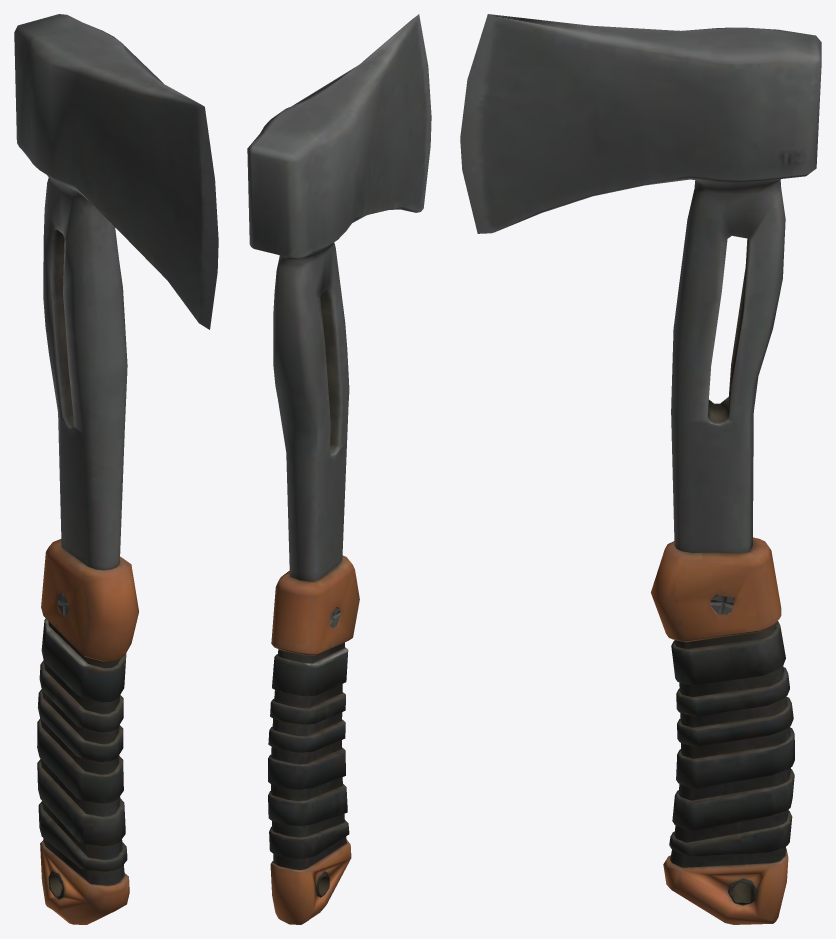
Rendered from hatchet_lod1.glb.
3 renders of one model, left to right at view 1: azimuth 30°, elevation 25°; view 2: azimuth 150°, elevation 25°; view 3: azimuth 270°, elevation 25°, orthographic. The views are drawn at different scales.
Parts seen in each view (by area): view 1: hatchet; view 2: hatchet; view 3: hatchet.
Part boxes in pixels (bbox=[...]): hatchet: bbox=[14, 14, 218, 924]; hatchet: bbox=[247, 14, 431, 924]; hatchet: bbox=[460, 14, 821, 924].
Size of the model in its own units: 0.0254 by 0.2887 by 0.1043.
1 material, 1 textured.
